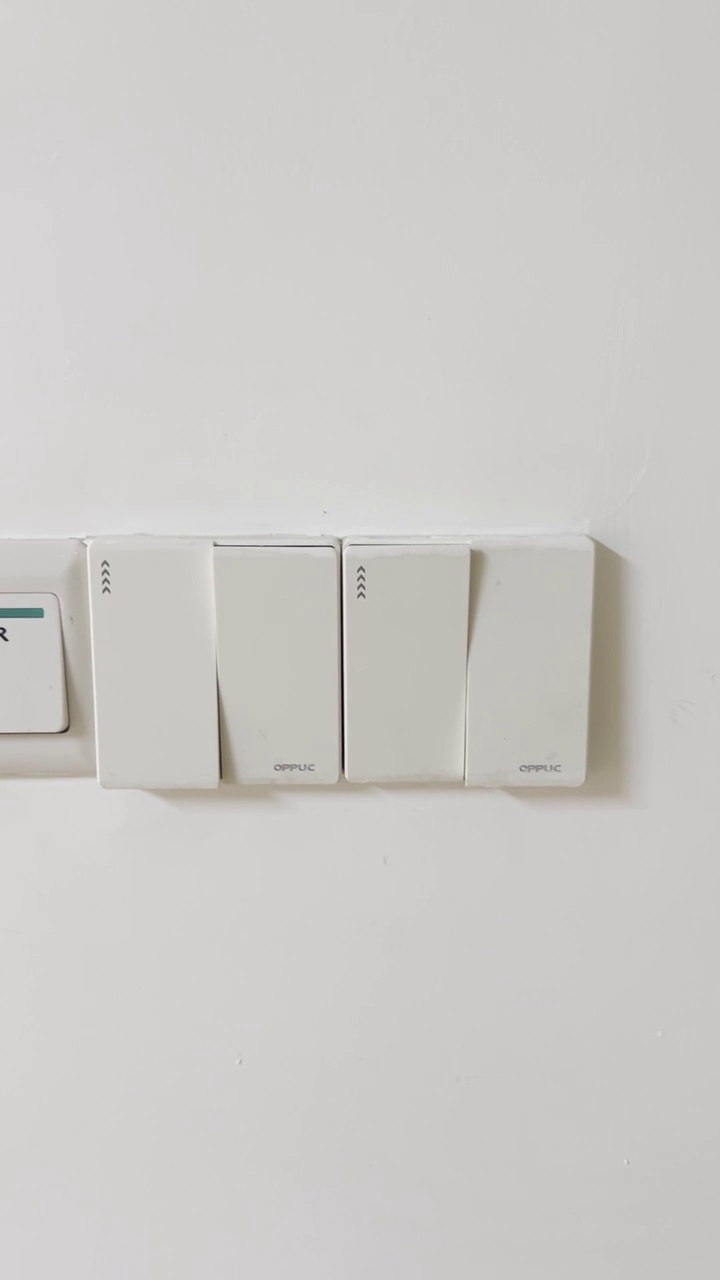button1: (91, 544, 217, 785), (217, 551, 338, 784), (470, 544, 586, 785), (348, 547, 464, 780)
